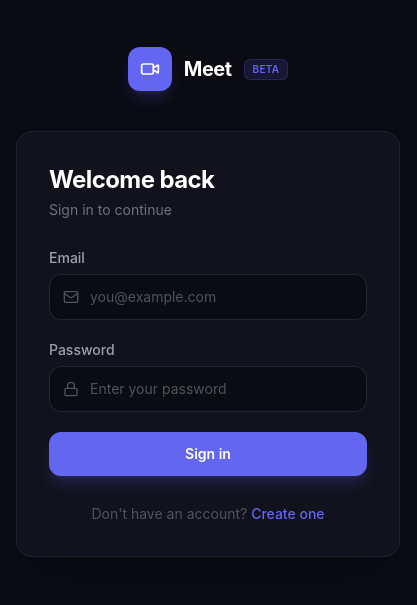
Test case: Login › shows error on failed login
This screenshot has width=417, height=605.
Type "a@b.com" into the field with placeholder "you@example.com".
click(208, 297); type("a@b.com")  # box [49, 274, 367, 320]
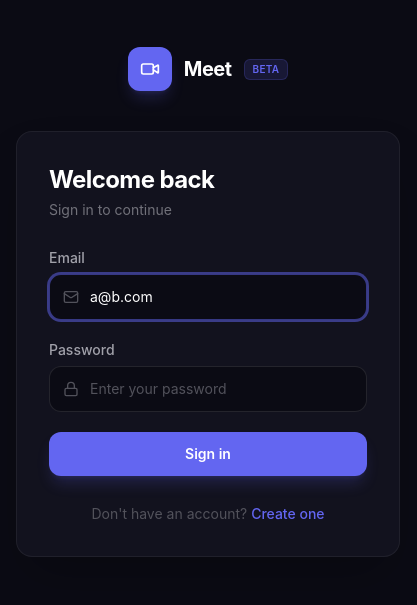
Type "wrong" into the password field with placeholder "Enter your password".
click(208, 389); type("wrong")  # box [49, 366, 367, 412]
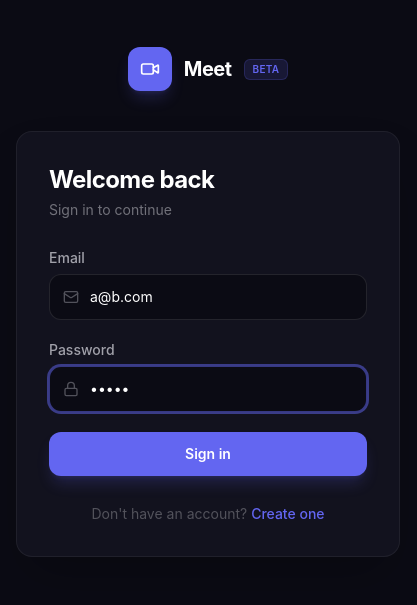
Click the button "Sign in".
click(208, 454)  # box [49, 432, 367, 476]
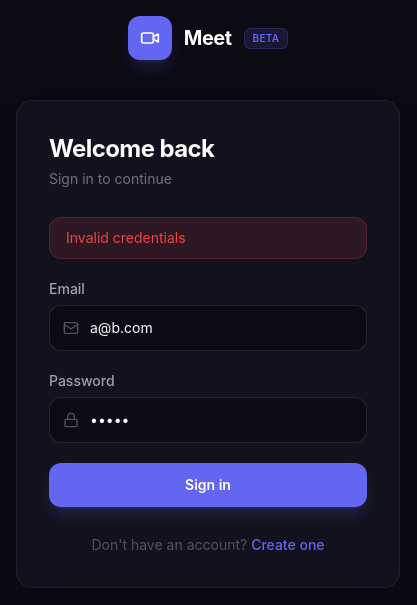
Expected: the text "Invalid credentials" is shown, [49, 217, 367, 259]
